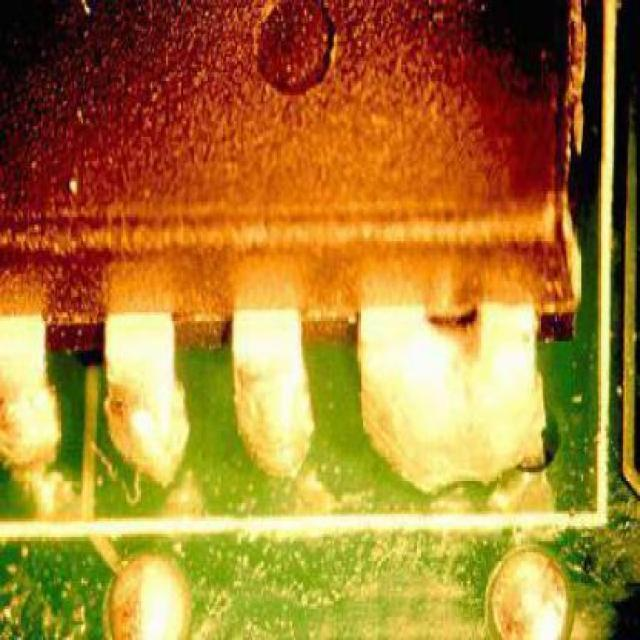Soldering shorted: (352, 286, 554, 486)
